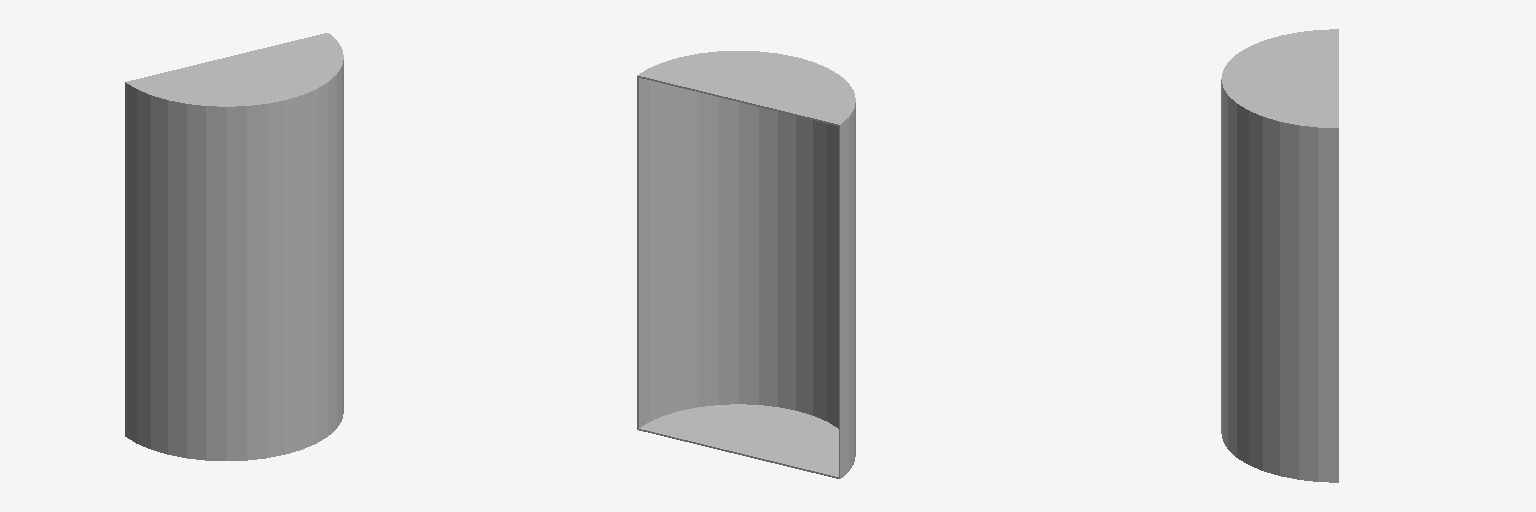
The model's file is greenhouse_glass.obj.
The picture shows the model from 3 angles: view 1: azimuth 30°, elevation 25°; view 2: azimuth 150°, elevation 25°; view 3: azimuth 270°, elevation 25°; orthographic projection.
Visible parts, largest first — view 1: Body2; view 2: Body2; view 3: Body2.
Boxes of the visible parts, x1,y1,x2,y2 form: Body2: [125, 33, 343, 460]; Body2: [637, 51, 855, 478]; Body2: [1221, 29, 1338, 482].
Bounding box in the file's own units: 30 × 50 × 15.